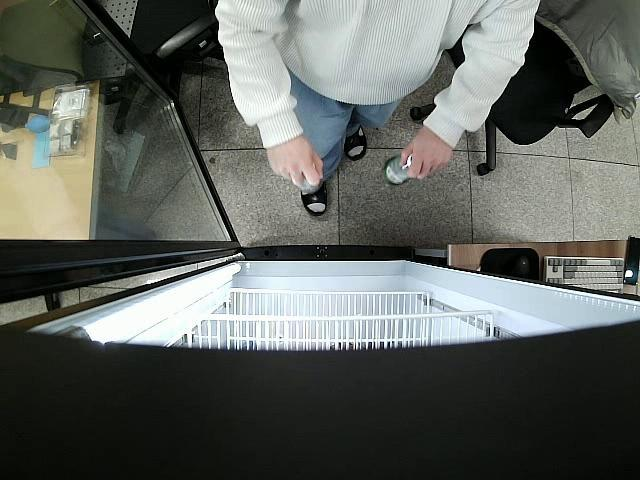18_trevi: (384, 154, 414, 186)
